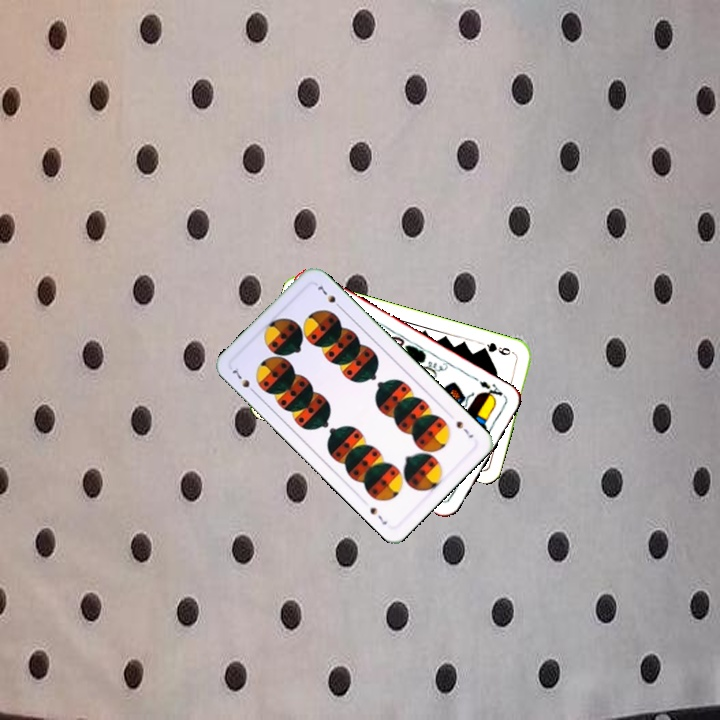EA: (475, 377, 507, 403)
G9: (477, 338, 518, 358)
S7: (228, 363, 259, 397), (452, 417, 476, 441)
